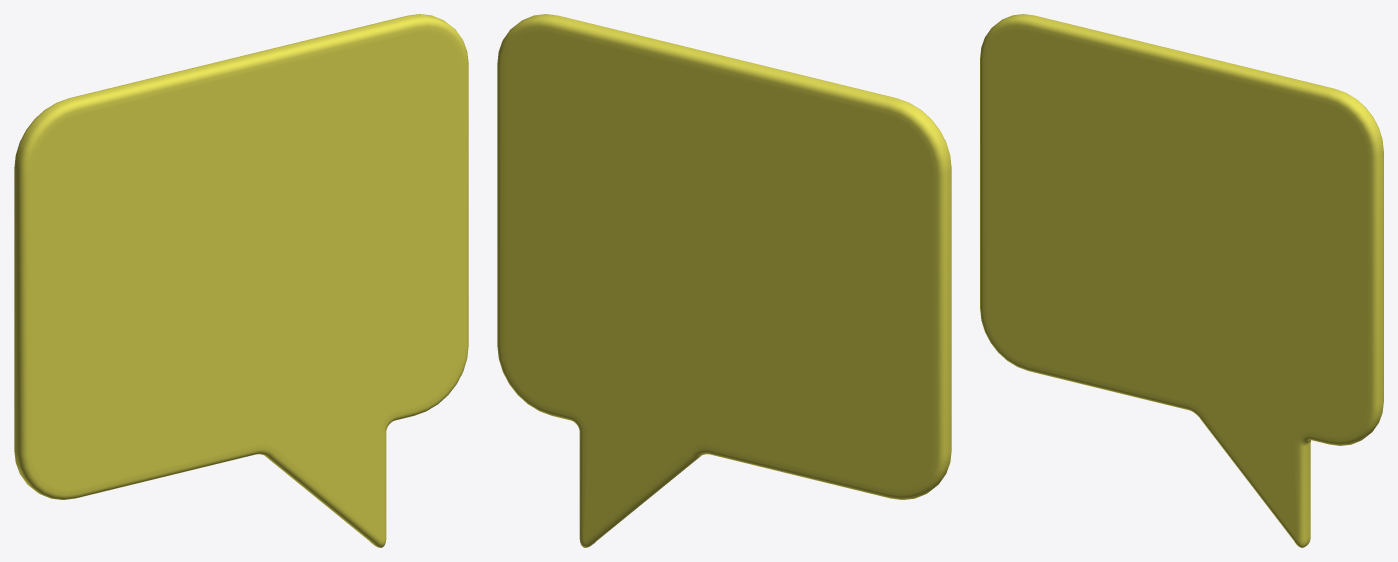
The model's file is social-media-core-services-megaphone-1679426669089.glb.
The picture shows the model from 3 angles, left to right: view 1: azimuth 30°, elevation 25°; view 2: azimuth 150°, elevation 25°; view 3: azimuth 330°, elevation 25°; orthographic projection. The views are drawn at different scales.
Visible parts, largest first — view 1: Cube; view 2: Cube; view 3: Cube.
Boxes of the visible parts, x1,y1,x2,y2 form: Cube: (14, 14, 468, 547); Cube: (497, 14, 951, 547); Cube: (980, 14, 1383, 547).
Bounding box in the file's own units: 2.12 × 2.35 × 0.0858.
